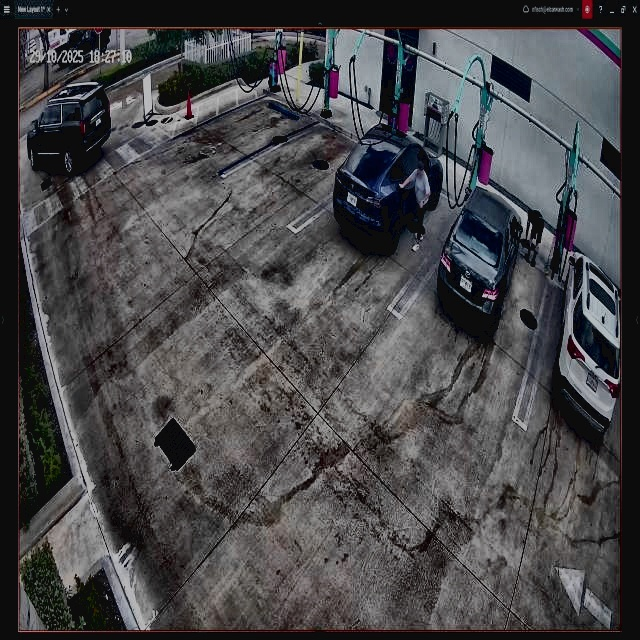Car: (332, 124, 443, 251), (440, 187, 520, 330)
